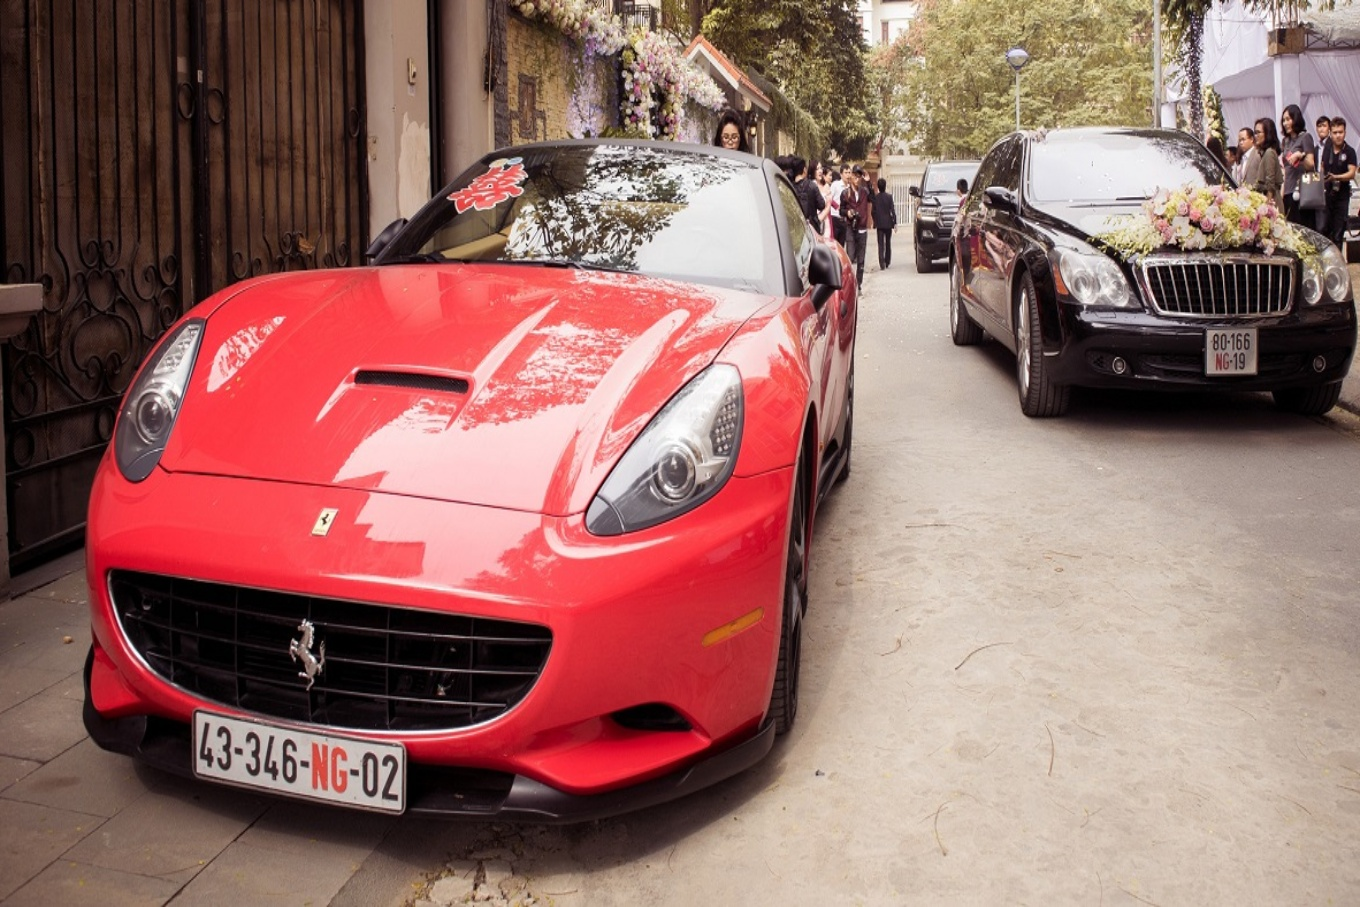plate: (191, 707, 412, 811), (1198, 323, 1267, 378)
